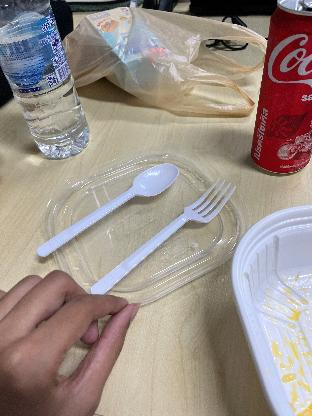Others: (90, 178, 239, 300), (36, 159, 181, 257)
Plastic Bottle: (0, 0, 90, 154)
